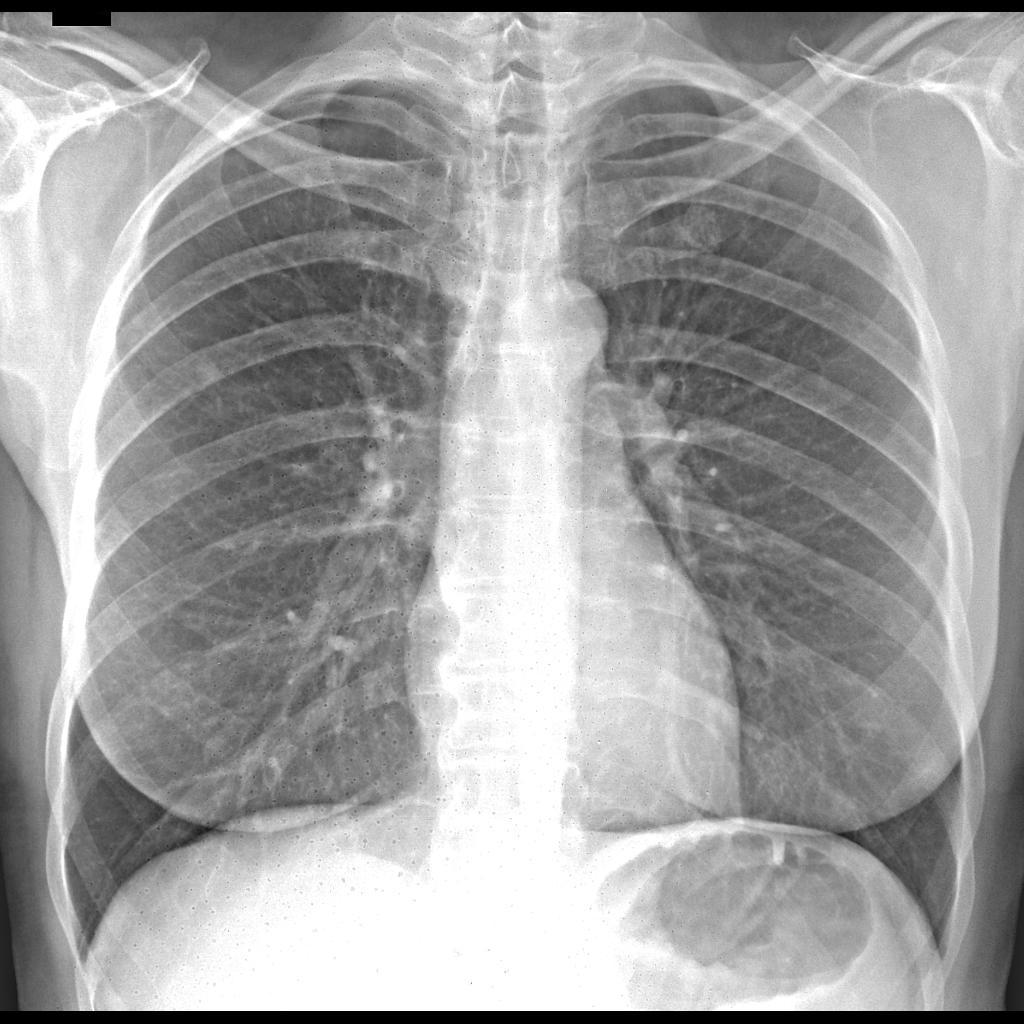Nodule: (187, 353, 232, 400)
